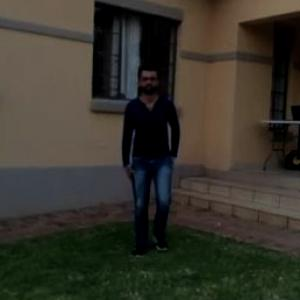follow: (123, 57, 185, 262)
